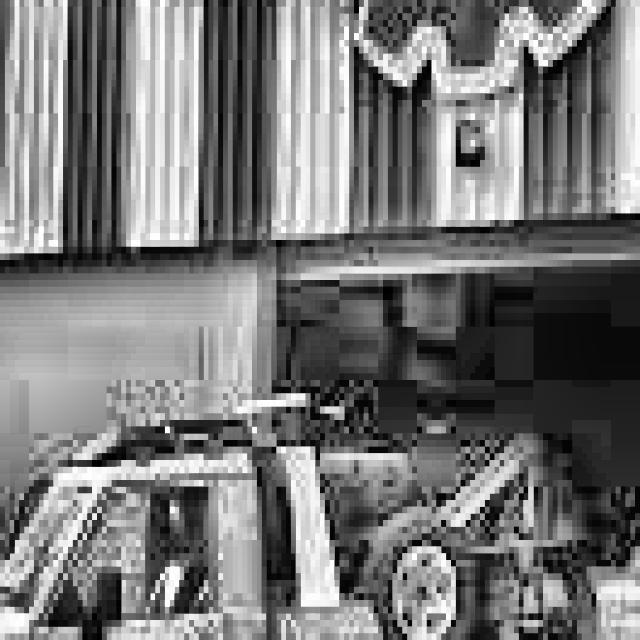light_vehicle: (0, 300, 596, 640)
